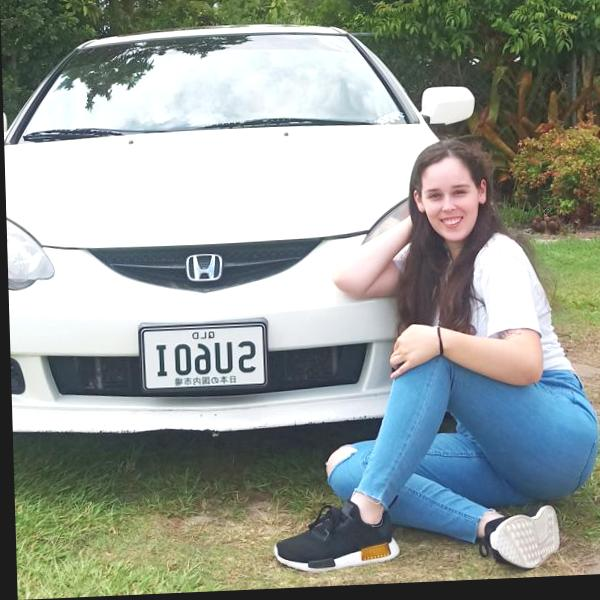License_Plate: (134, 319, 271, 393)
